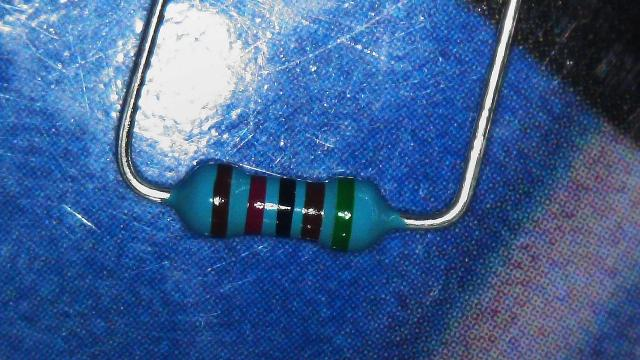black: (274, 178, 295, 236)
brown: (210, 163, 232, 237), (300, 180, 324, 241)
green: (331, 177, 355, 250)
red: (245, 173, 266, 234)
resistor: (166, 151, 404, 260)
